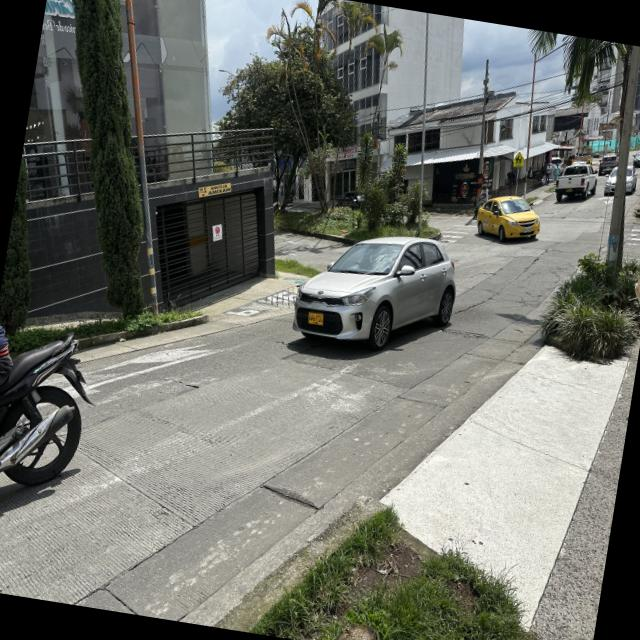number plate: (308, 312, 324, 326)
